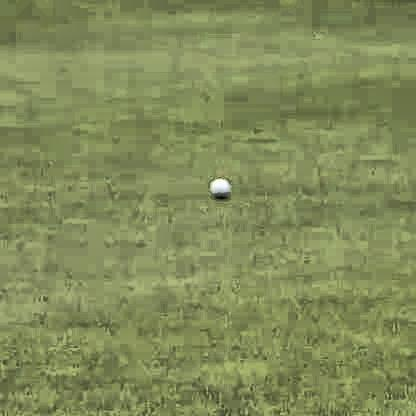golfball: (205, 174, 229, 197)
